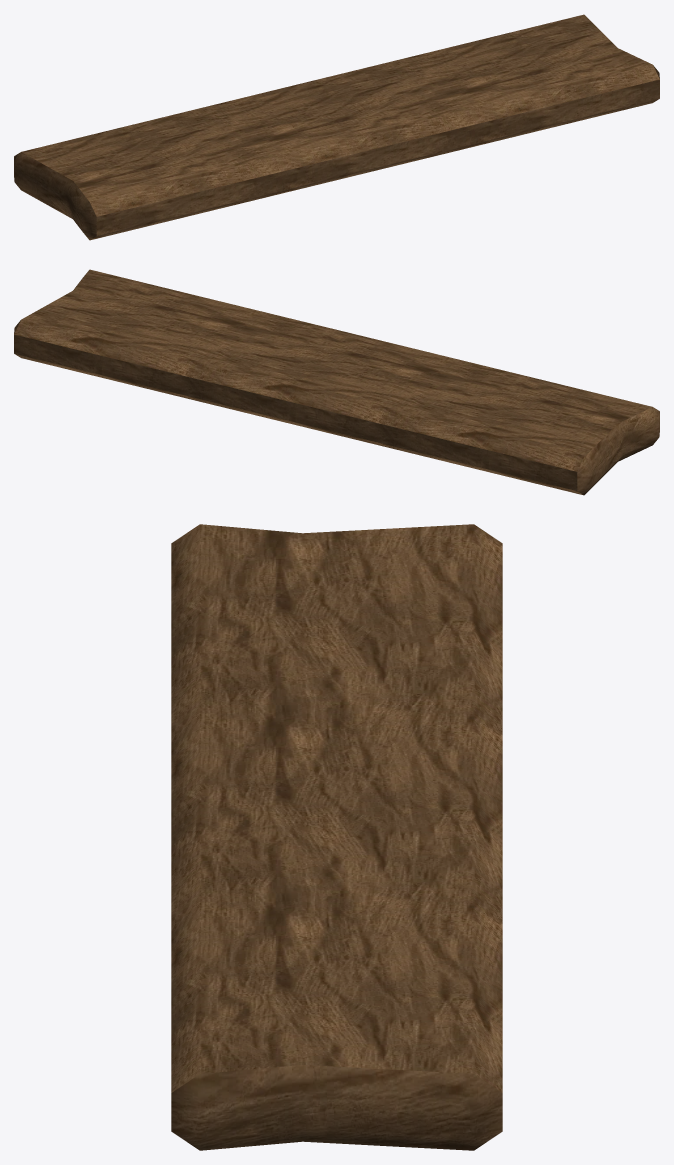
Rendered from wooden-plank01.glb.
The picture shows the model from 3 angles, top to bottom: view 1: azimuth 30°, elevation 25°; view 2: azimuth 150°, elevation 25°; view 3: azimuth 270°, elevation 25°; orthographic projection. The views are drawn at different scales.
Parts seen in each view (by area): view 1: WoodenPlank01; view 2: WoodenPlank01; view 3: WoodenPlank01.
Boxes of the visible parts, bbox=[...] form: WoodenPlank01: bbox=[14, 14, 659, 240]; WoodenPlank01: bbox=[14, 269, 659, 495]; WoodenPlank01: bbox=[171, 524, 502, 1150].
Size of the model in its own units: 2.99 by 0.1903 by 0.7428.
Materials: 1 (1 with a texture image).
